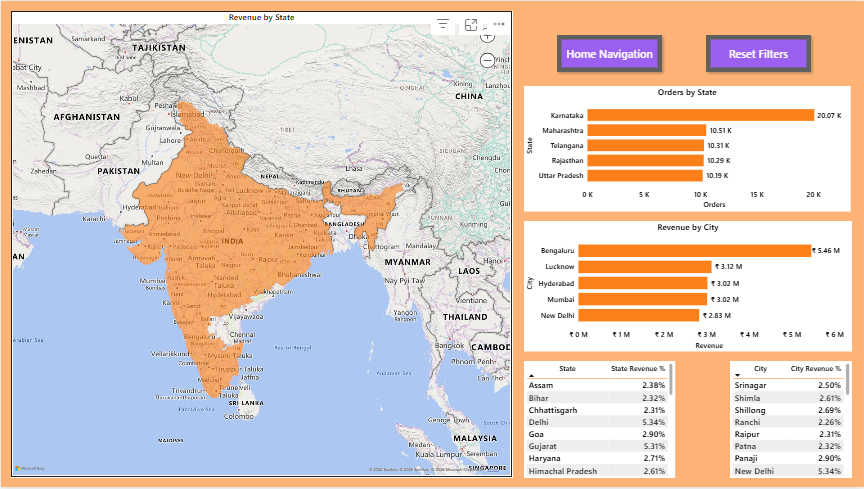

The dashboard page shown, as its layout file describes it:
{"tool":"powerbi","page":{"name":"Geographic Performance","canvas":[1920,1080],"ordinal":3},"visuals":[{"type":"filledMap","title":"Revenue by State","fields":{"Category":["dim_location.State"]},"box":[22.2,22.2,1113.9,1036.1],"z":0},{"type":"clusteredBarChart","title":"Revenue by City","fields":{"Category":["dim_location.City"],"Y":["fact_swiggy_orders.Total Revenue"]},"box":[1161.9,488.1,728.6,290.5],"z":1000},{"type":"tableEx","fields":{"Values":["dim_location.City","dim_location.City Revenue %"]},"box":[1619,800,271.4,259.5],"z":2000},{"type":"clusteredBarChart","title":"Orders by State","fields":{"Category":["dim_location.State"],"Y":["fact_swiggy_orders.Total Orders"]},"box":[1161.9,188.1,726.2,278.6],"z":3000},{"type":"tableEx","fields":{"Values":["dim_location.State","dim_location.State Revenue %"]},"box":[1161.9,800,335.7,259.5],"z":4000},{"type":"actionButton","box":[1226.7,66.7,251.1,100],"z":10000},{"type":"actionButton","box":[1557.8,66.7,251.1,100],"z":11000}]}

Visuals, with their boxes in screenshot pixels (x1, y1, x2, y2), scaled from the page's 1920x1080 canvas onto the 864x489 screenshot:
"Revenue by State" filledMap: [10,10,511,479]
"Revenue by City" clusteredBarChart: [523,221,851,353]
tableEx - dim_location.City x dim_location.City Revenue %: [729,362,851,480]
"Orders by State" clusteredBarChart: [523,85,850,211]
tableEx - dim_location.State x dim_location.State Revenue %: [523,362,674,480]
actionButton: [552,30,665,75]
actionButton: [701,30,814,75]
